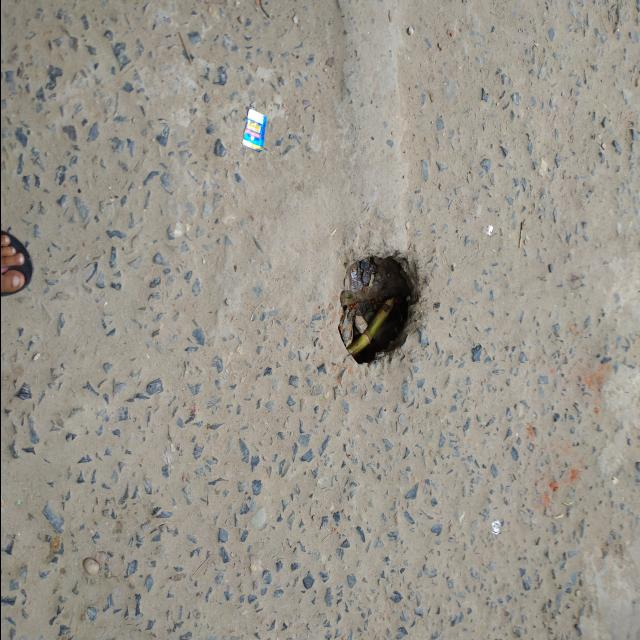potholes: (334, 242, 421, 368)
